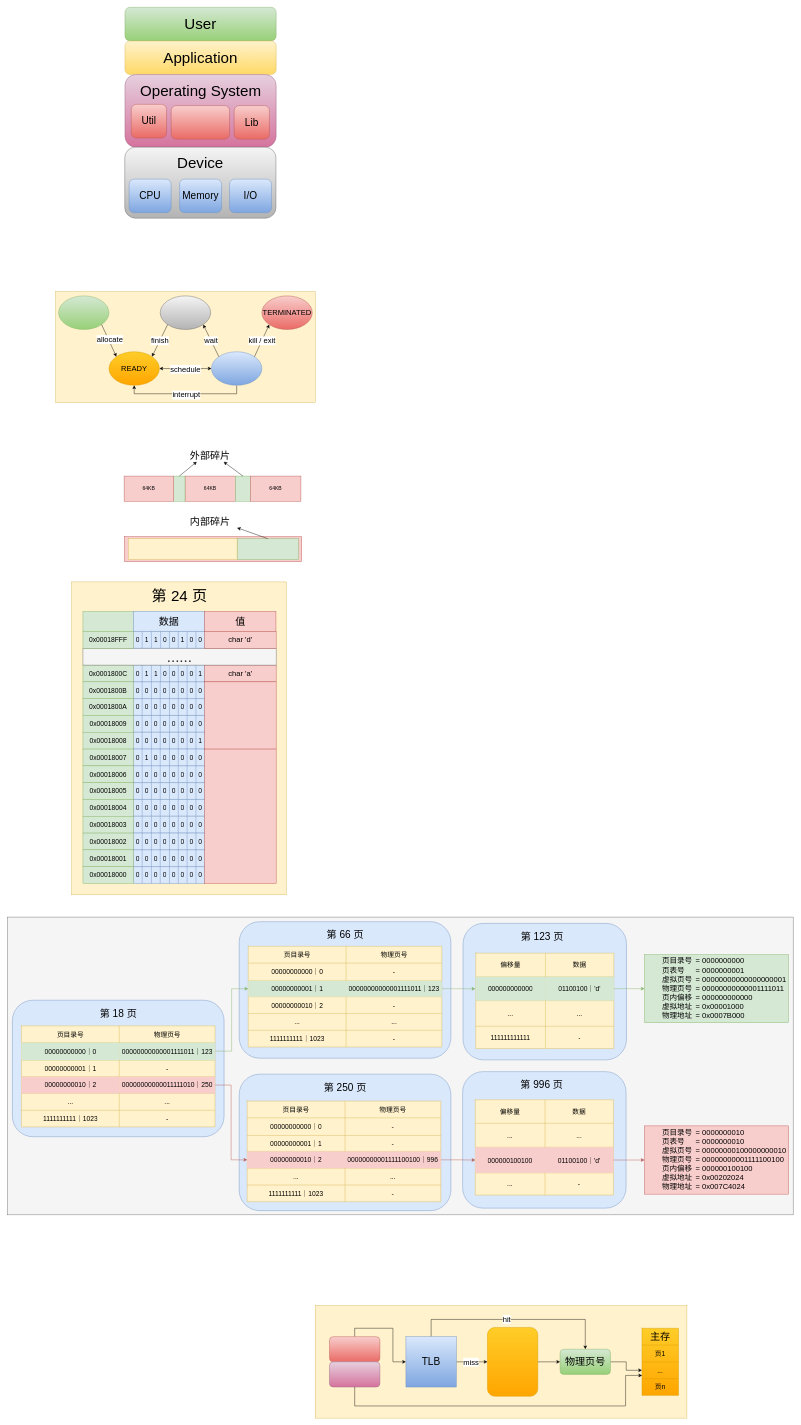
Some shapes in this 801 by 1425 pixel diagram are drawn without their labels. Each missing label, with the centre of its shape:
"1KB" goes at [179,488].
"2KB" goes at [243,488].
"58KB" goes at [267,549].
"70KB" goes at [182,549].
"double 2.0" goes at [240,816].
"int 1" goes at [240,715].
"Kernel" goes at [200,122].
"NEW" goes at [83,312].
"RUNNING" goes at [236,368].
"WAITING" goes at [185,312].
"地址" goes at [108,621].
"多级页表" goes at [512,1361].
"虚拟页号" goes at [354,1349].
"页偏移量" goes at [354,1374].
